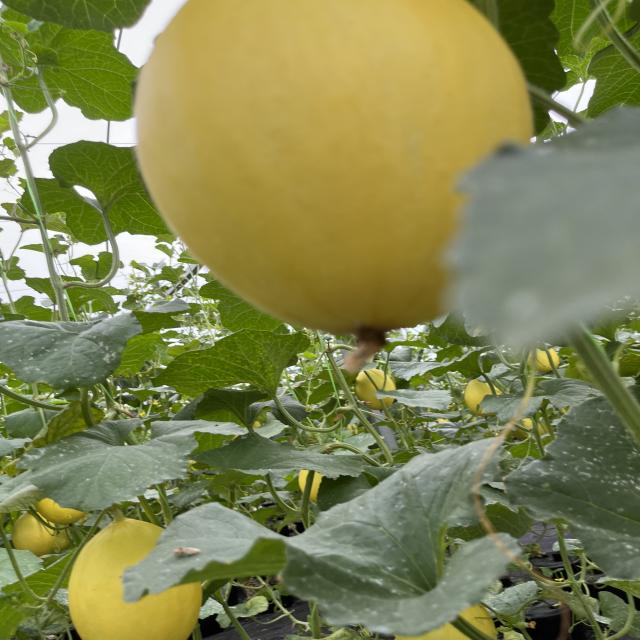downy mildew: (191, 426, 371, 486), (166, 329, 304, 396)
healthy: (8, 141, 177, 242), (0, 22, 137, 123), (0, 0, 161, 33)
powdery mildew: (139, 432, 505, 638), (507, 391, 640, 576), (20, 419, 212, 495), (0, 313, 143, 387), (477, 373, 602, 420)
